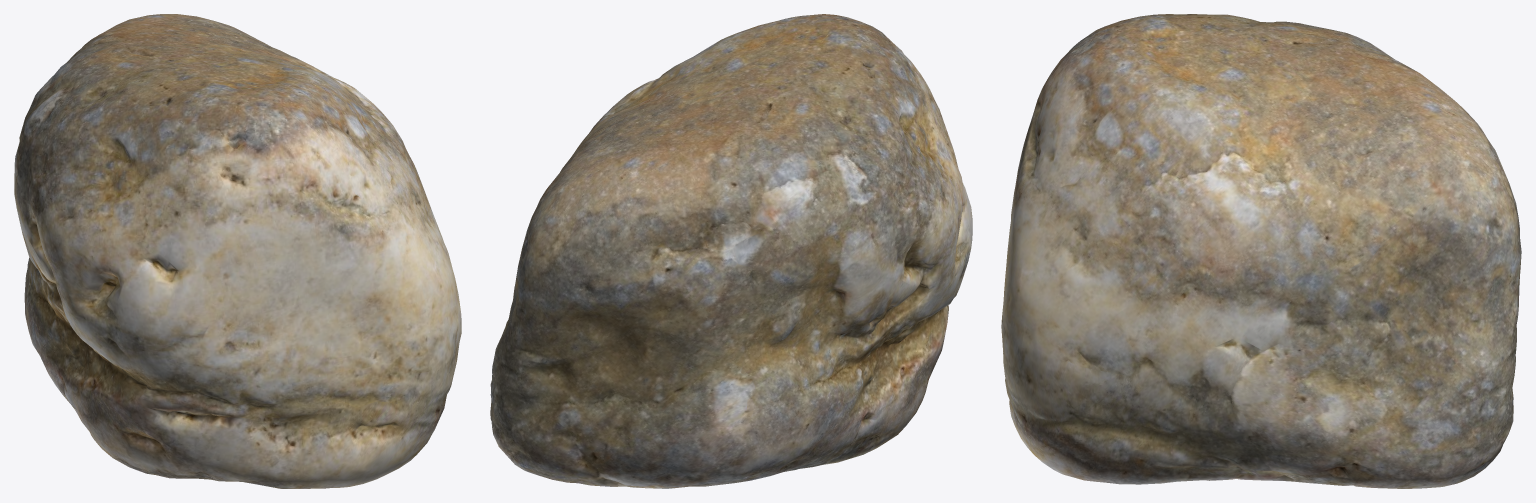
3 renders of one model, left to right at view 1: azimuth 30°, elevation 25°; view 2: azimuth 150°, elevation 25°; view 3: azimuth 270°, elevation 25°, orthographic. The views are drawn at different scales.
Visible parts, largest first — view 1: rock-010; view 2: rock-010; view 3: rock-010.
Part boxes in pixels (x1,y1,x2,y2): rock-010: (14, 14, 461, 488); rock-010: (490, 14, 972, 488); rock-010: (1001, 14, 1521, 488).
Bounding box in the file's own units: 1.64 × 1.65 × 2.
1 material, 1 textured.
